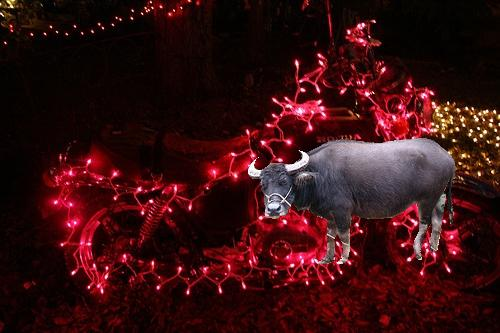tampered: (249, 139, 456, 264)
